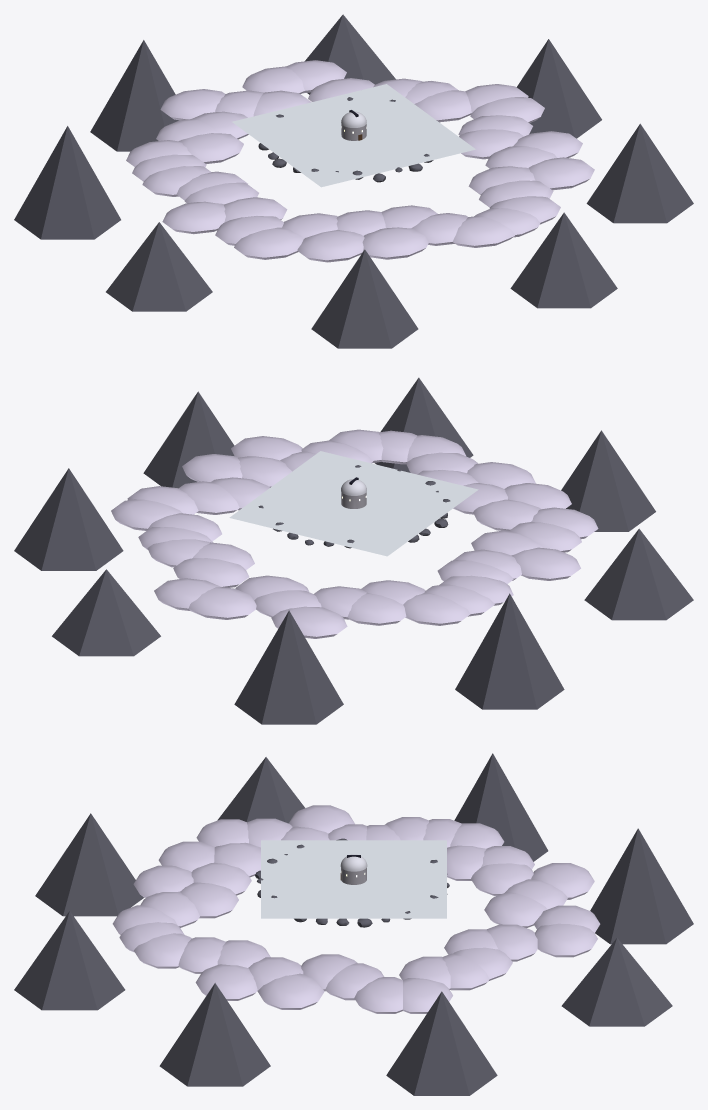
File: spectra.glb
The picture shows the model from 3 angles, top to bottom: view 1: azimuth 30°, elevation 25°; view 2: azimuth 150°, elevation 25°; view 3: azimuth 270°, elevation 25°; orthographic projection. The views are drawn at different scales.
Visible parts, largest first — view 1: sm_ground, sm_obs; view 2: sm_ground, sm_obs; view 3: sm_ground, sm_obs.
Boxes of the visible parts, x1,y1,x2,y2 form: sm_ground: (14,14,693,348); sm_obs: (341,110,366,140); sm_ground: (14,377,693,724); sm_obs: (341,477,366,508); sm_ground: (14,753,693,1095); sm_obs: (340,854,367,884).
Bounding box in the file's own units: 358 × 63.33 × 366.
